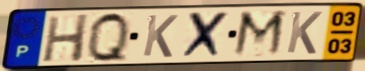H: (40, 12, 92, 63)
K: (284, 10, 325, 56), (140, 13, 181, 59)
M: (230, 9, 289, 59)
Q: (87, 10, 131, 64)
X: (178, 9, 232, 61)
